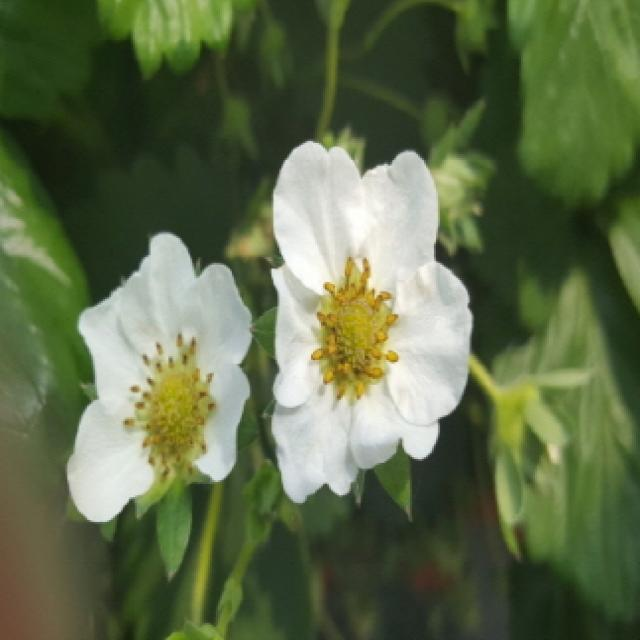Blossom Blight: (117, 328, 221, 479)
